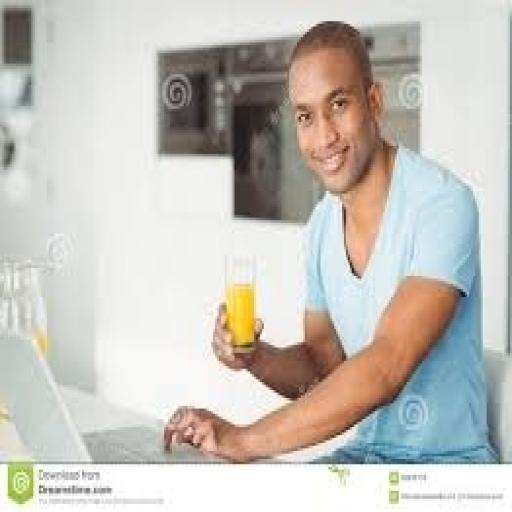using_laptop: (0, 332, 229, 464)
